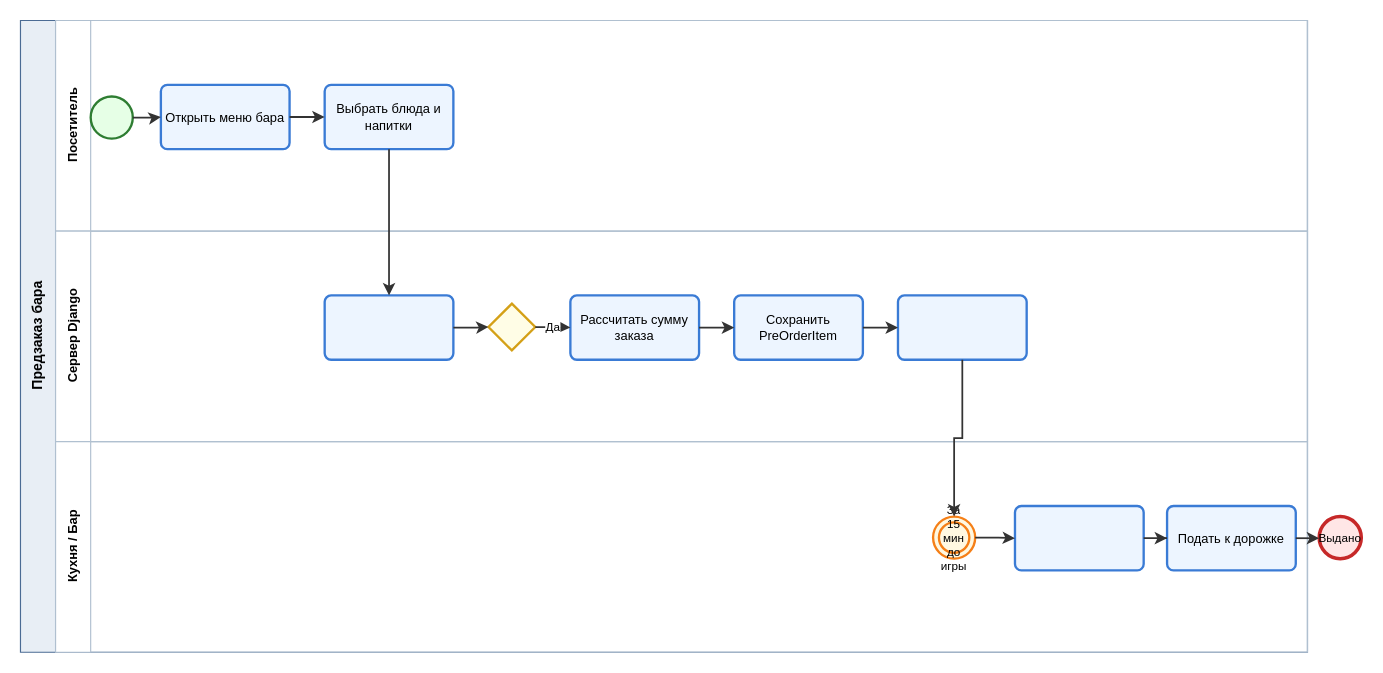
The diagram is 1383 pixels wide and 673 high, and some of its shapes have lost their labels. Here are the shapes that lost their labels. From the top down, the centre of each, then its label:
the point at 111,117: Старт
the point at 388,327: Проверить остатки блюд
the point at 511,326: В наличии?
the point at 961,327: Сформировать лист кухни
the point at 1078,537: Приготовить блюда
